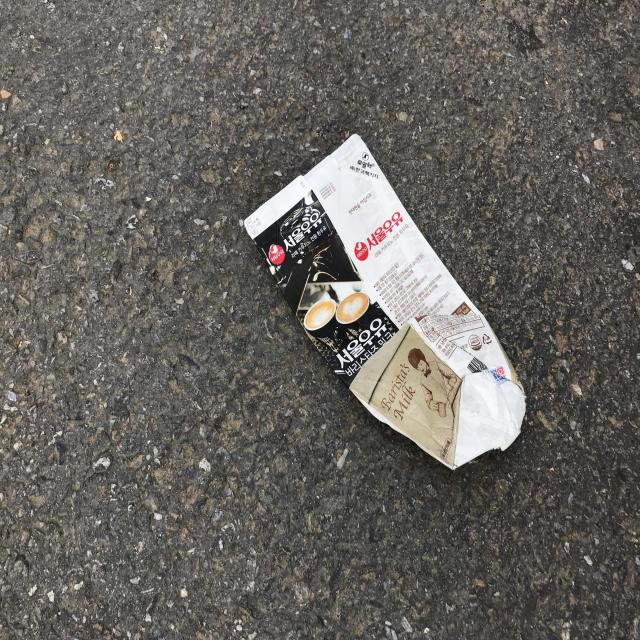paperpack: (244, 134, 526, 469)
